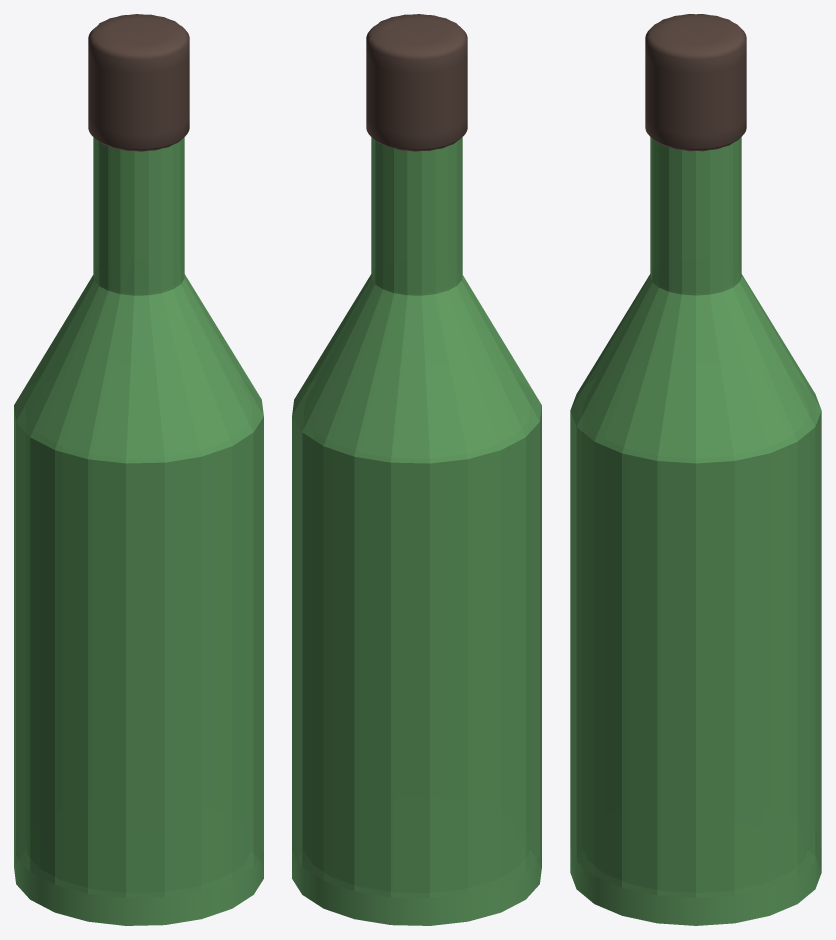
The model's file is edgebottle.fbx.
The picture shows the model from 3 angles, left to right: view 1: azimuth 30°, elevation 25°; view 2: azimuth 150°, elevation 25°; view 3: azimuth 270°, elevation 25°; orthographic projection.
Parts seen in each view (by area): view 1: pCylinder17.003, pCylinder18.003; view 2: pCylinder17.003, pCylinder18.003; view 3: pCylinder17.003, pCylinder18.003.
Part boxes in pixels (box(x1,y1,x2,y2)): pCylinder17.003: box(14, 137, 263, 925); pCylinder18.003: box(88, 14, 189, 151); pCylinder17.003: box(292, 137, 541, 925); pCylinder18.003: box(366, 14, 467, 151); pCylinder17.003: box(570, 137, 821, 925); pCylinder18.003: box(645, 14, 746, 151).
Size of the model in its own units: 2600 by 9603 by 2600.
